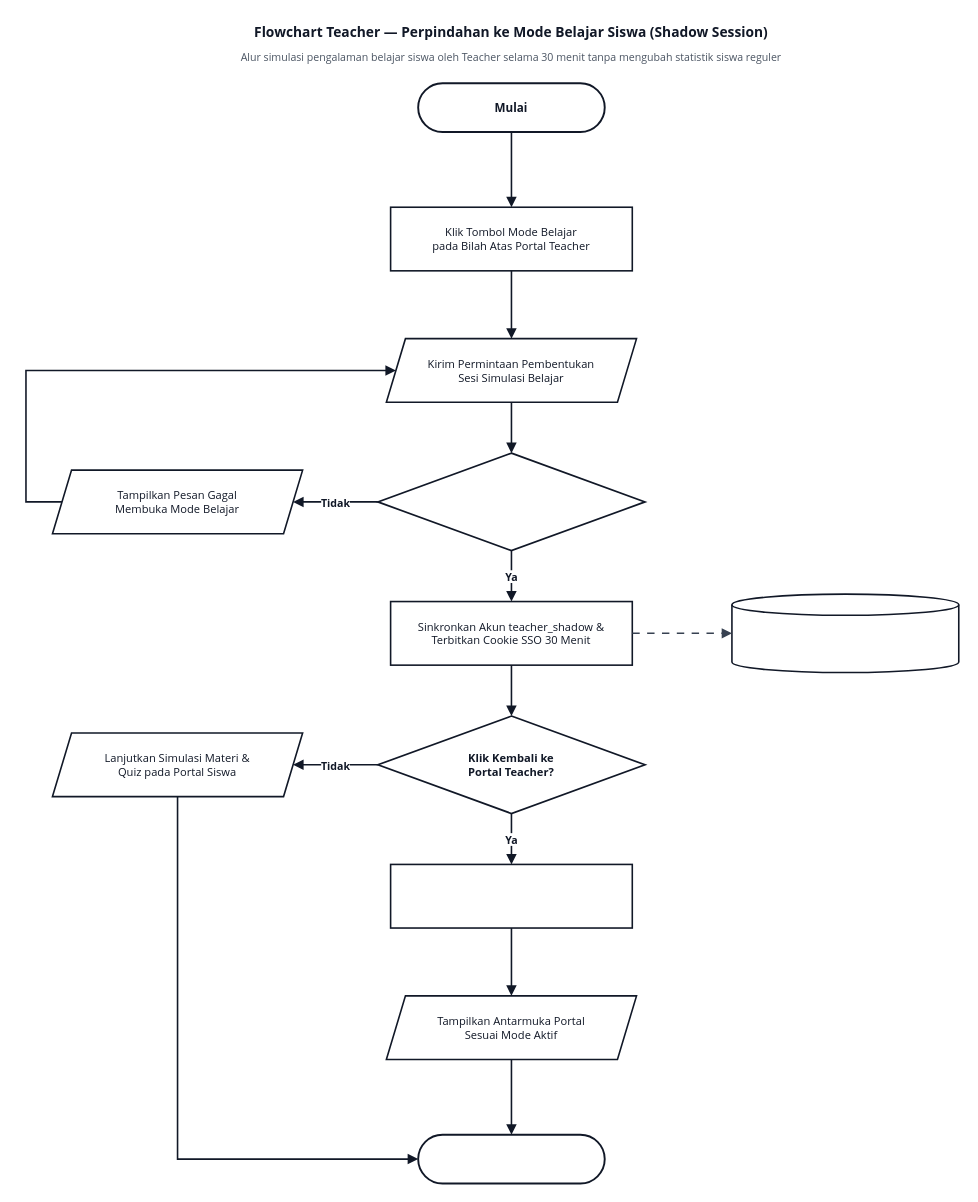
This 978x1202 diagram has some shape labels left out. The centre of each missing label's shape, as x and y in pixels:
"Hapus Sesi Shadow & Pulihkan Tampilan Portal Teacher" goes at point (511, 895).
"MySQL: dls_student.student_accounts (account_type = teacher_shadow)" goes at point (845, 633).
"Selesai" goes at point (511, 1158).
"Sesi Teacher Aktif & Berhak Simulasi?" goes at point (511, 501).
